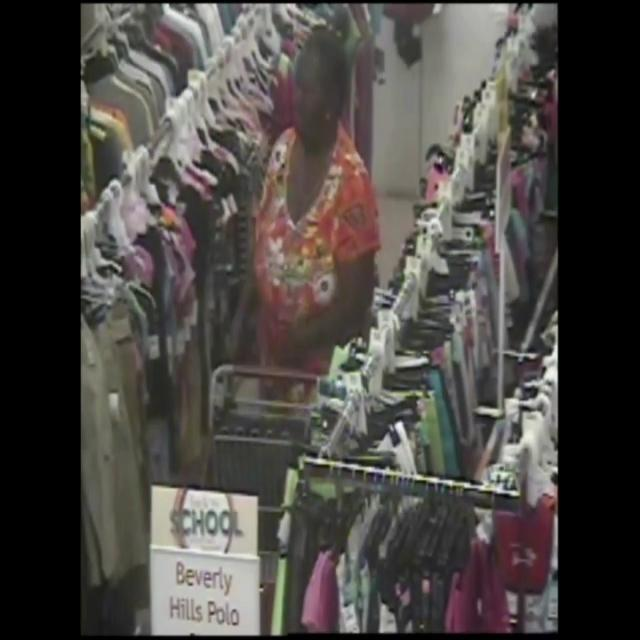Product: (231, 249, 282, 351)
shoplifting: (230, 6, 389, 377)
